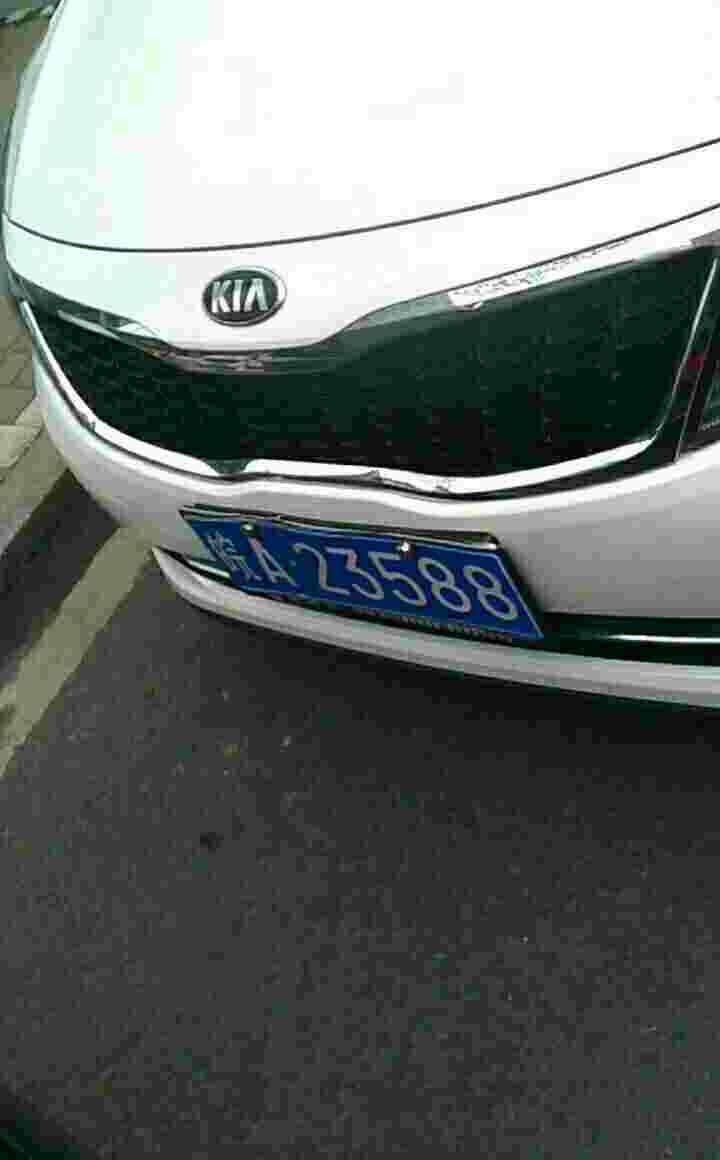license_plate: (194, 512, 532, 622)
